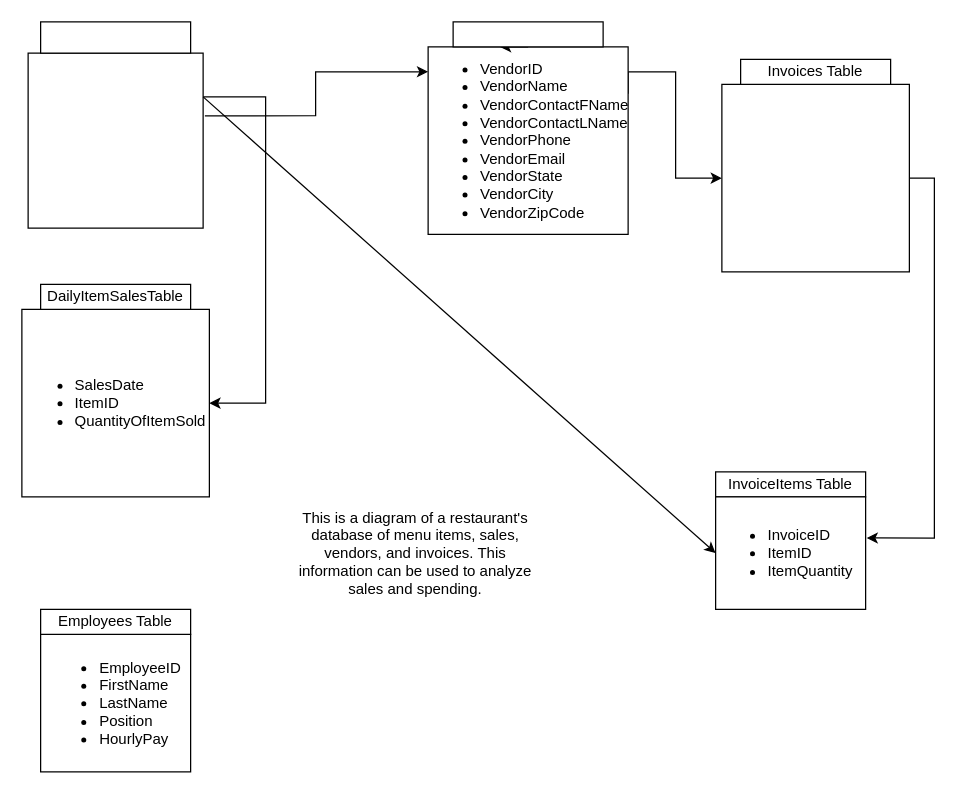
The diagram is 966 pixels wide and 794 high, and some of its shapes have lost their labels. The centre of each missing label's shape, as x and y in pixels:
InvoiceID VendorID InvoiceDate: (x=815, y=177)
ItemID VendorID ItemName ItemCategory ItemVendorPrice ItemMenuPrice: (x=115, y=140)
Items Table: (x=115, y=37)
Vendors Table: (x=527, y=34)
